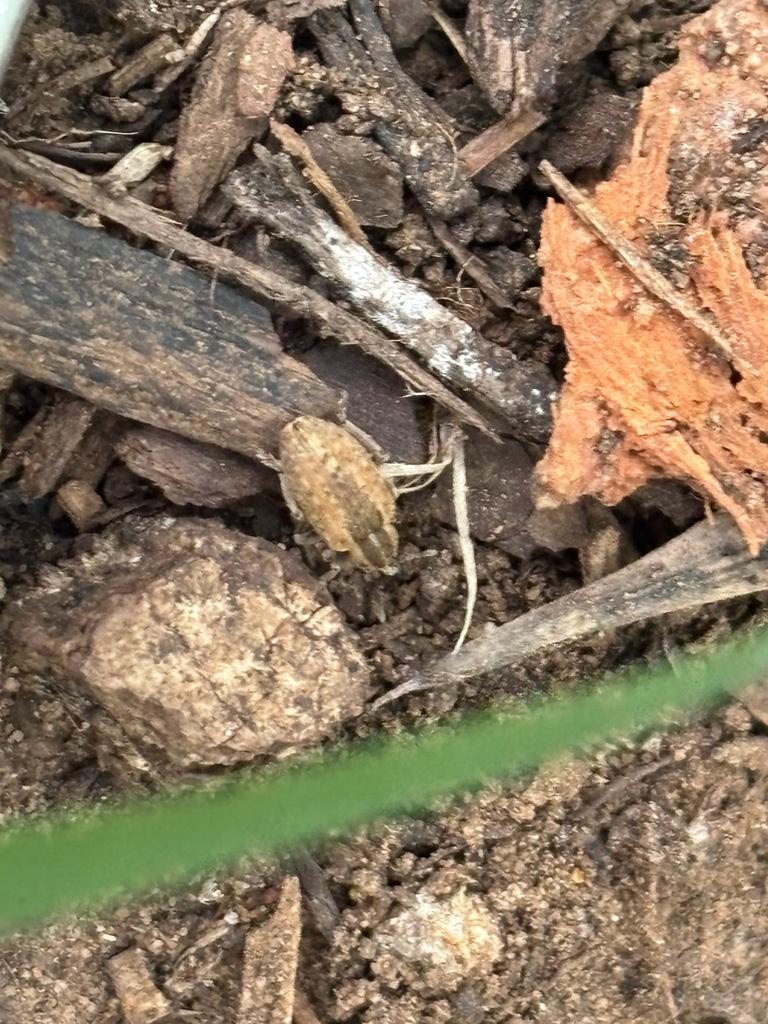weevils: (223, 380, 481, 644)
